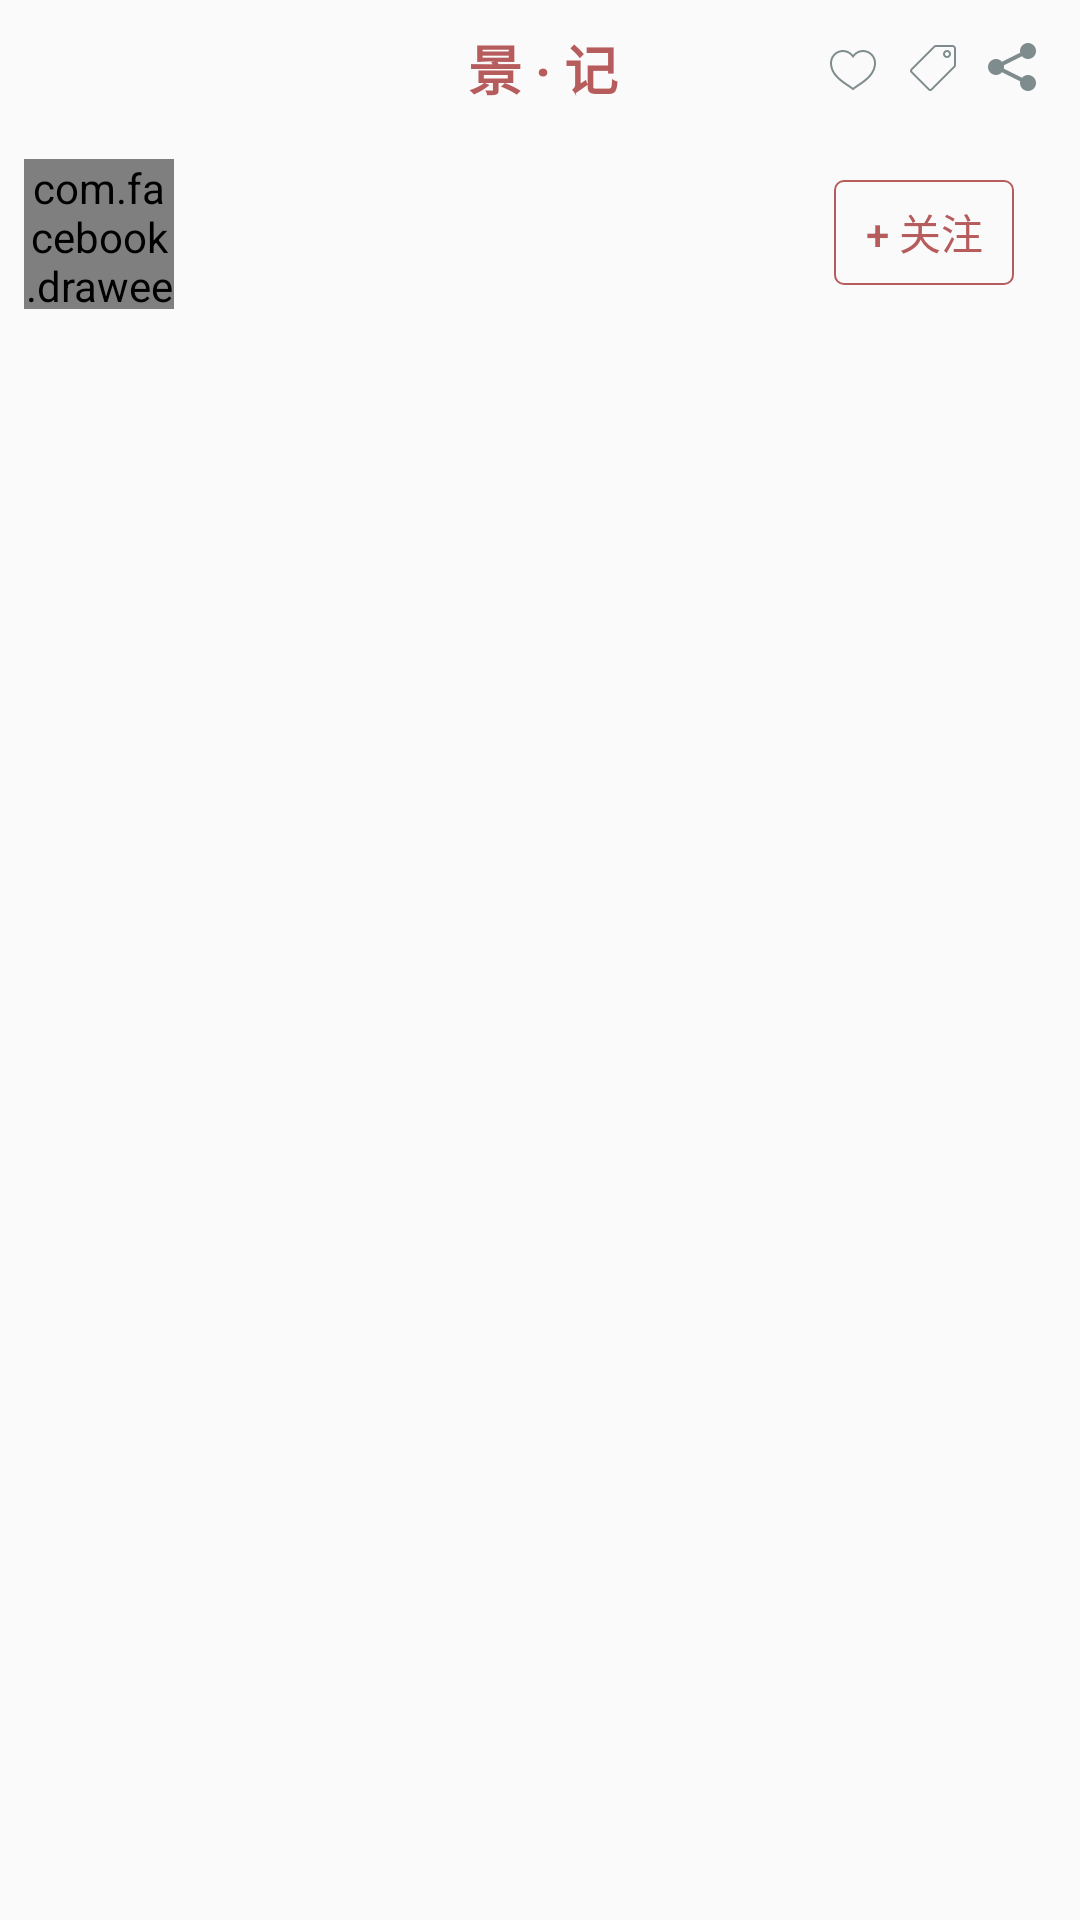

Icon bounding boxes for this 1080×1920 phone screenshot, format detection(x1, y1, x2, y2):
like: detection(830, 50, 876, 90)
share: detection(988, 43, 1036, 91)
tag: detection(910, 45, 956, 91)
